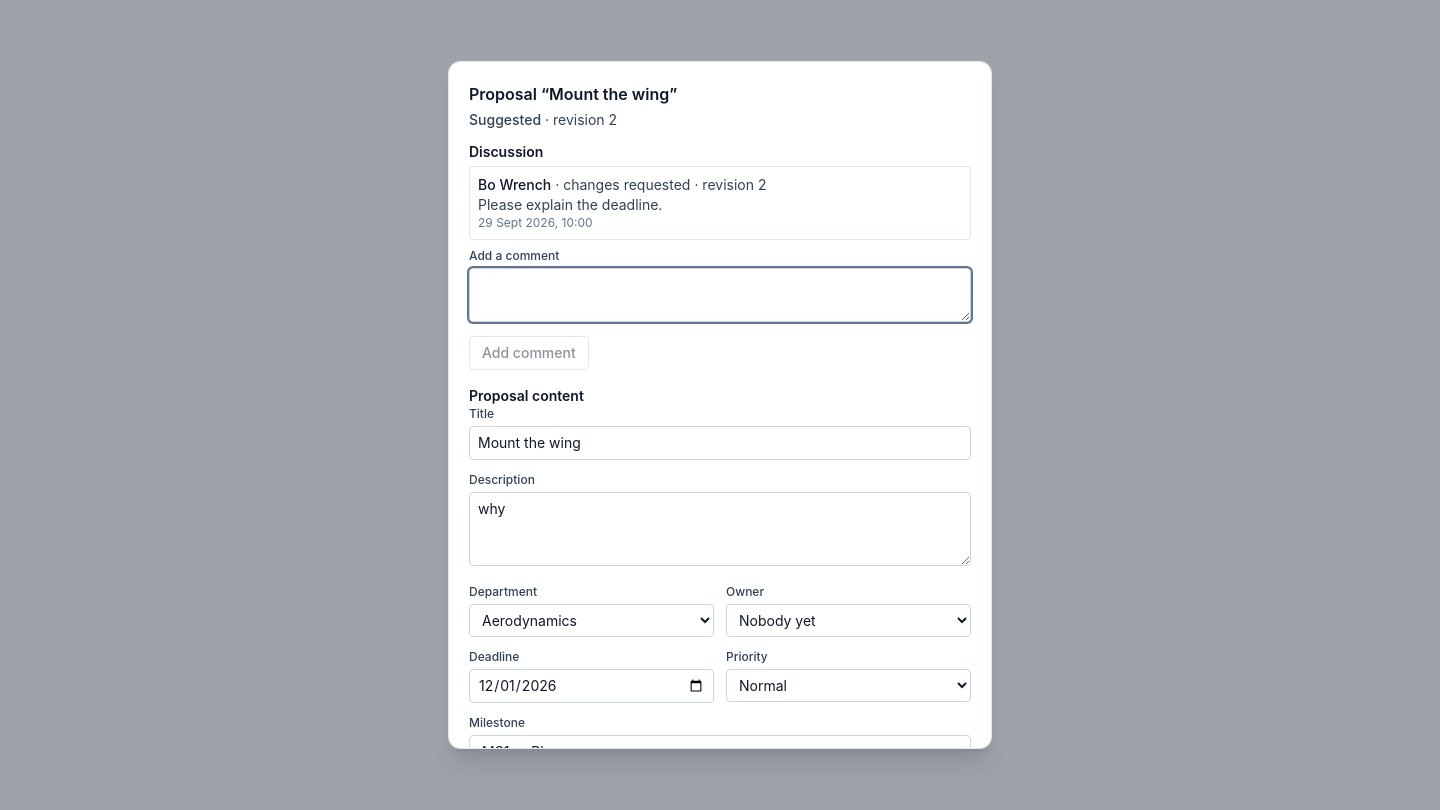
ReviewDialog discussion and revision › does not partially save a department move together with other content
Select "Bodywork" in the dropdown labelled "Department" at x=592, y=620, box [469, 604, 714, 637]
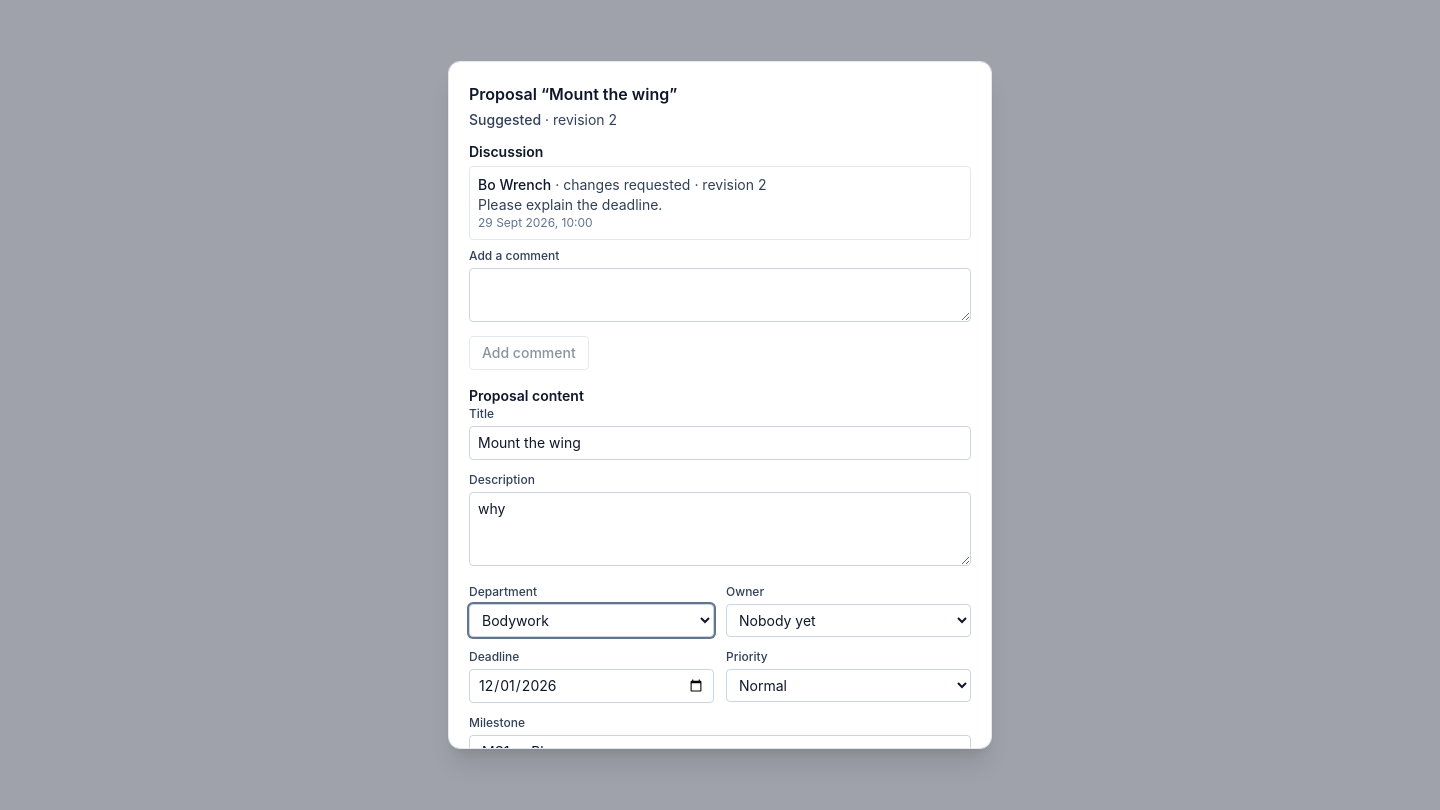
Select "Urgent" in the dropdown labelled "Priority" at x=848, y=685, box [726, 669, 971, 702]
(page scrolled)
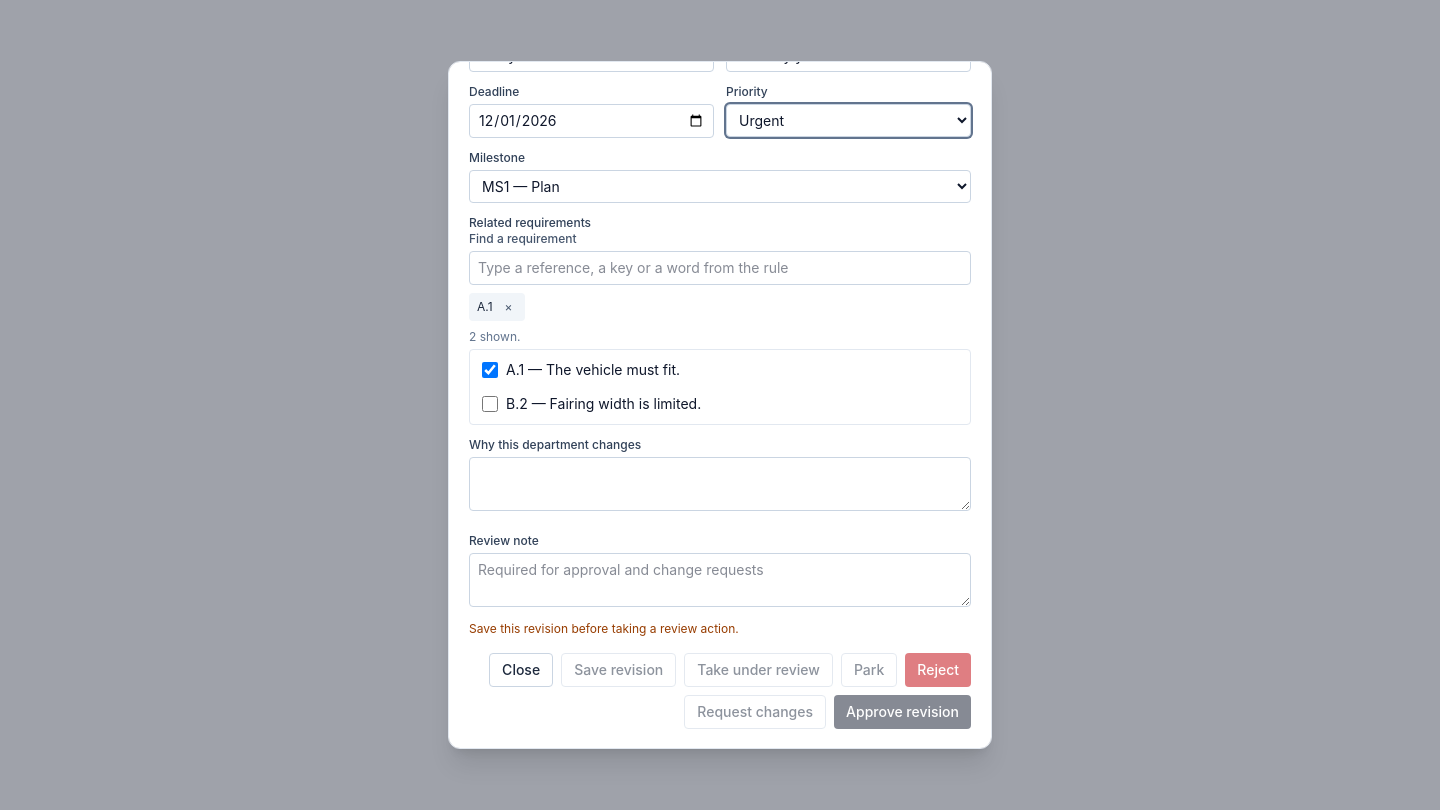
Type "Different scope" into the text box labelled "Why this department changes".
click(720, 484); type("Different scope")  # box [469, 457, 971, 511]
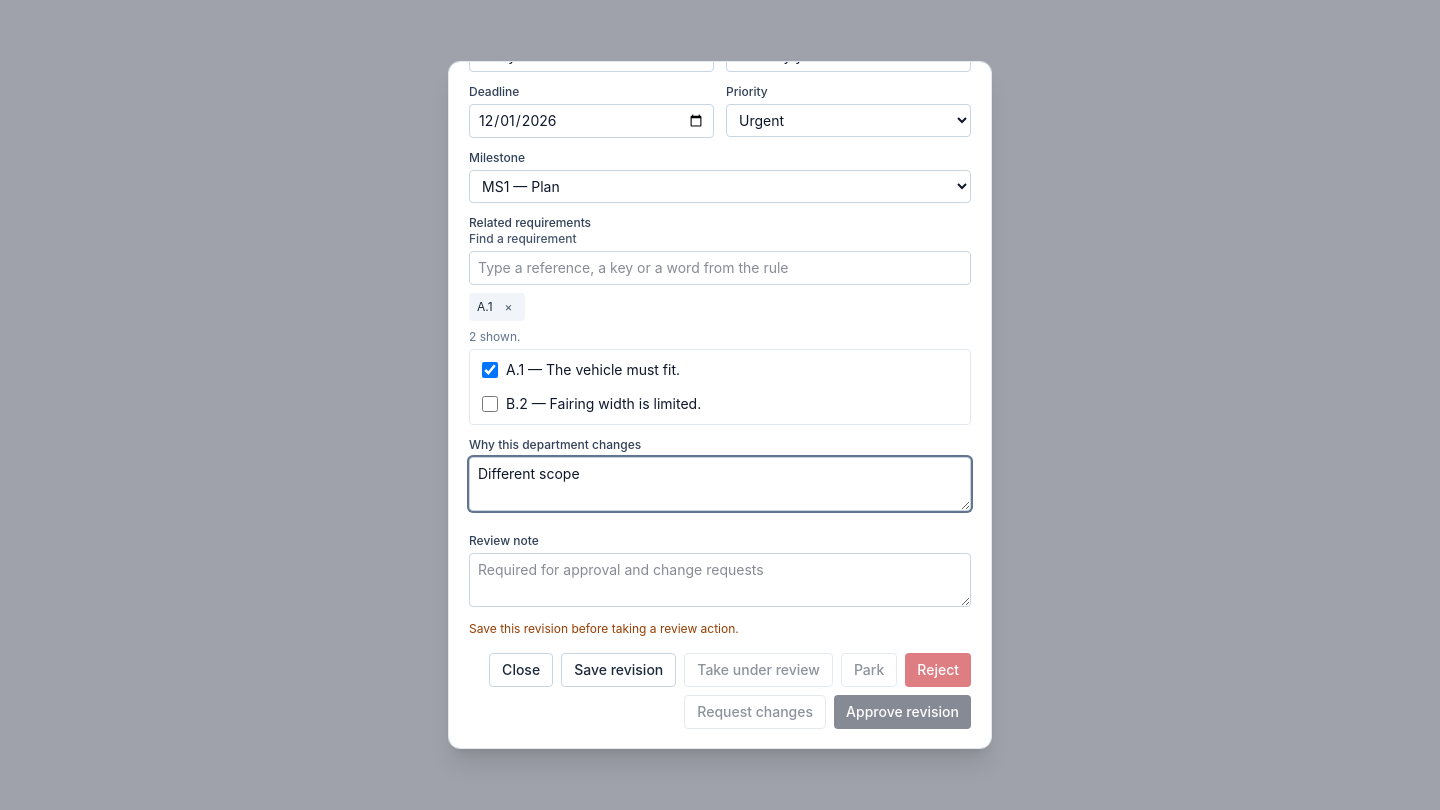
Click the button with test id "review-save".
click(619, 670)  # box [561, 653, 676, 687]
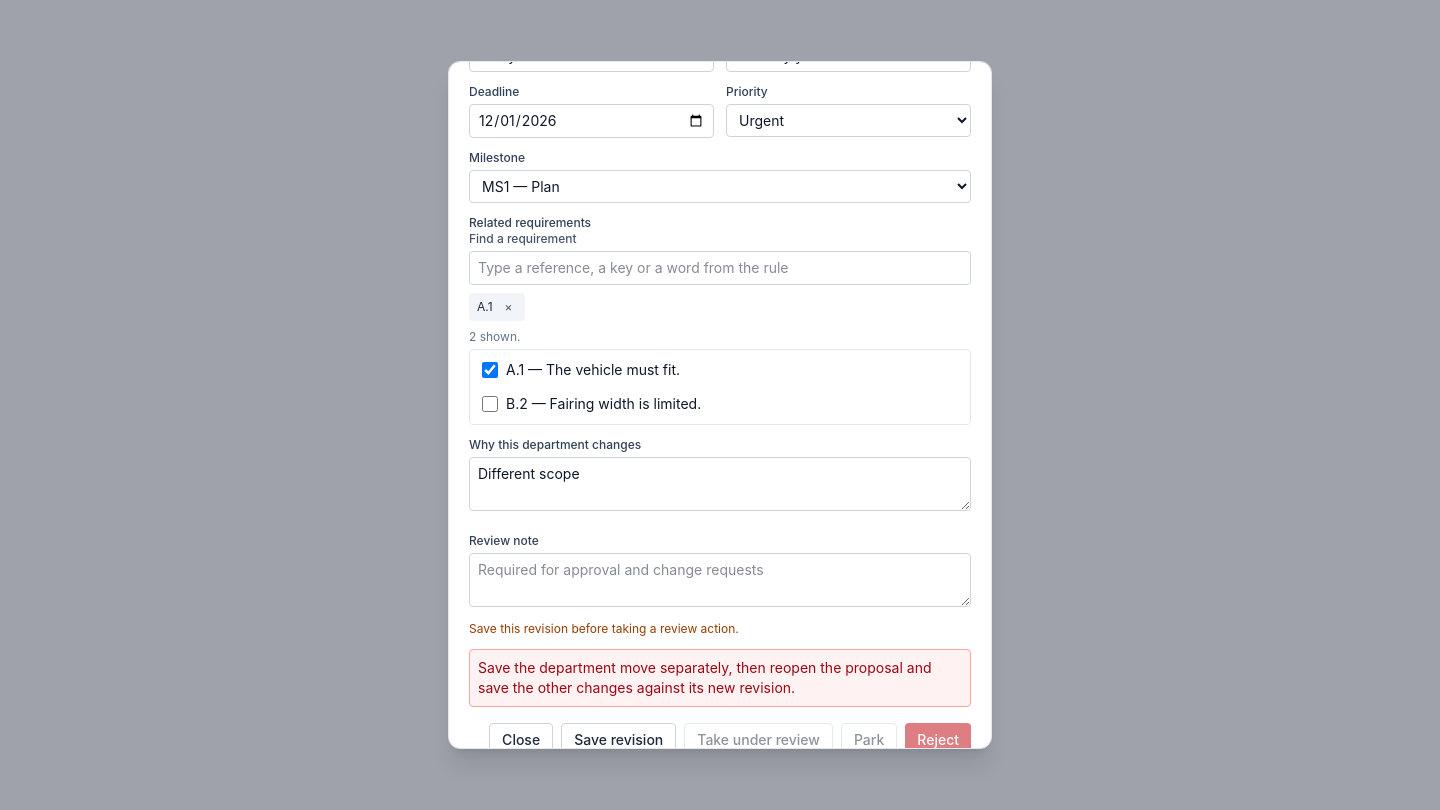
Expected: the text "Save the department move separately" is shown, [478, 659, 932, 696]
